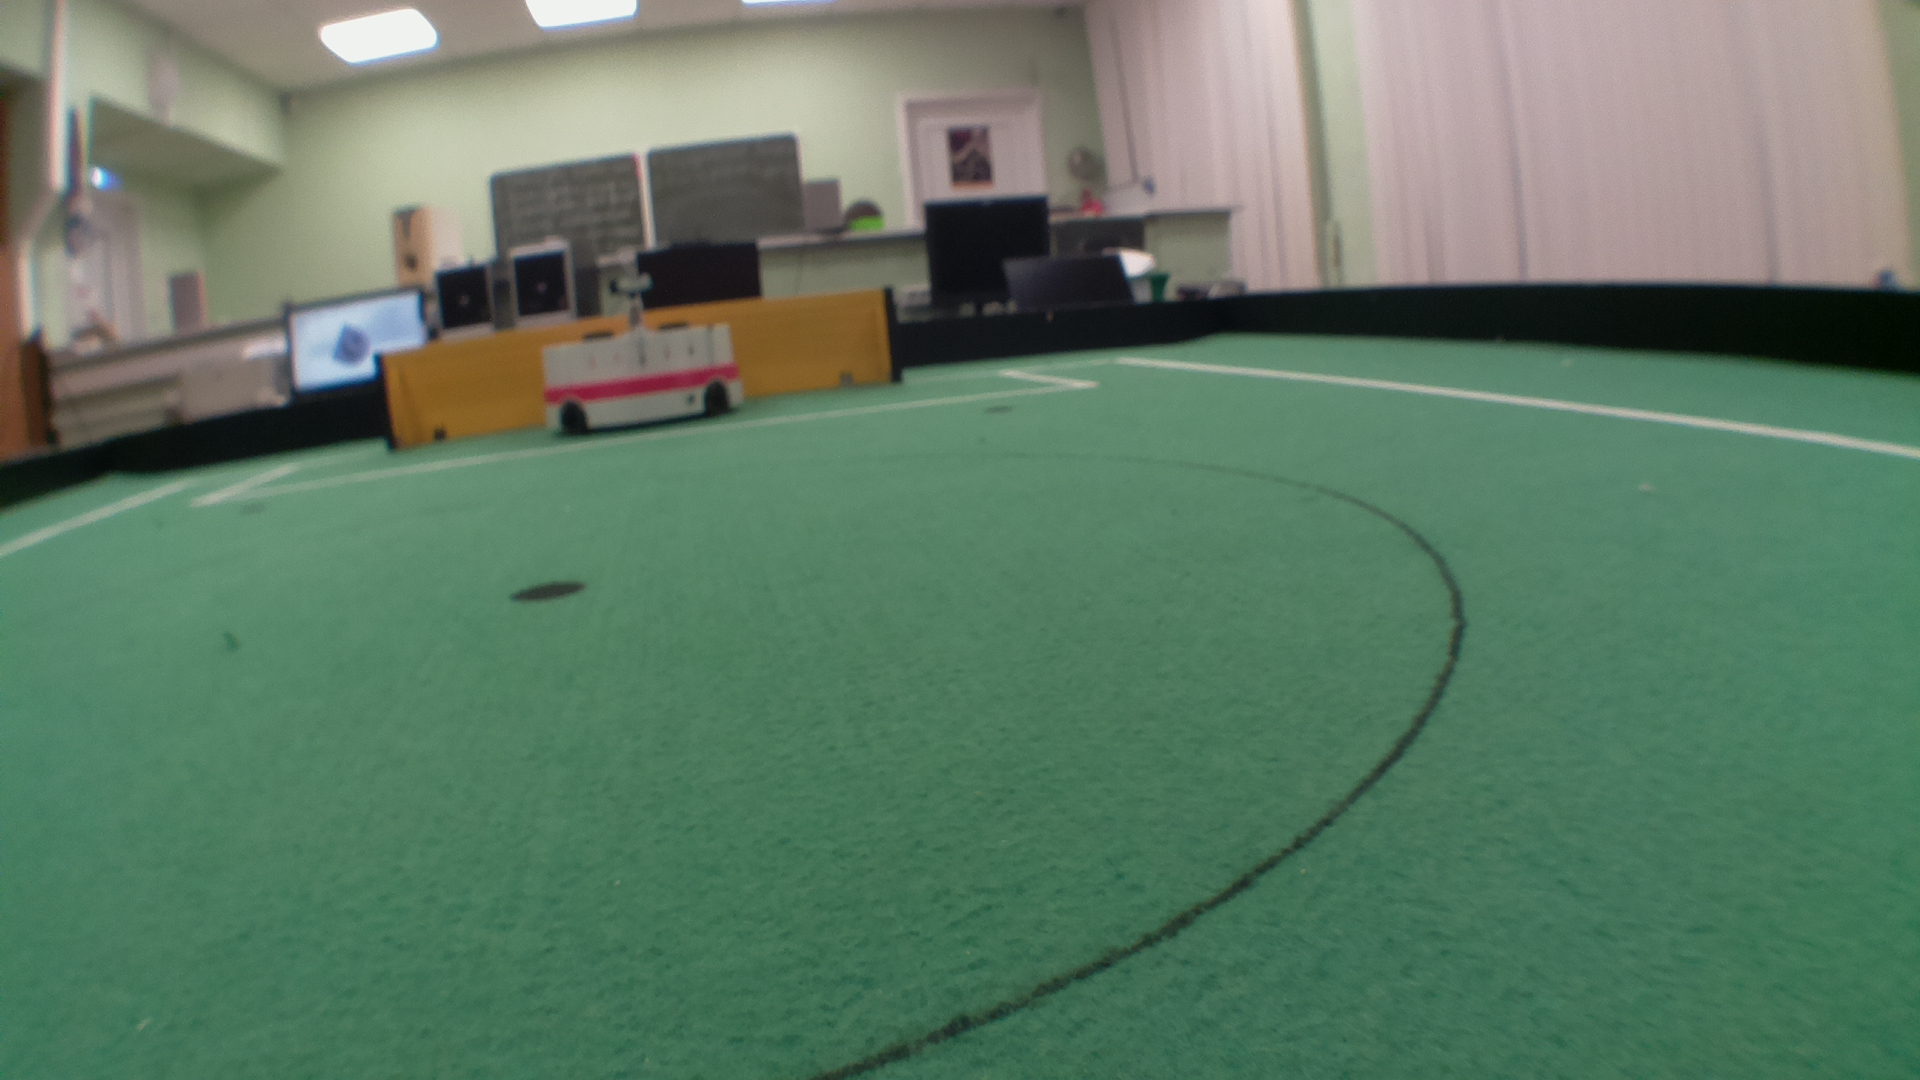YellowGoal: (378, 291, 897, 459)
